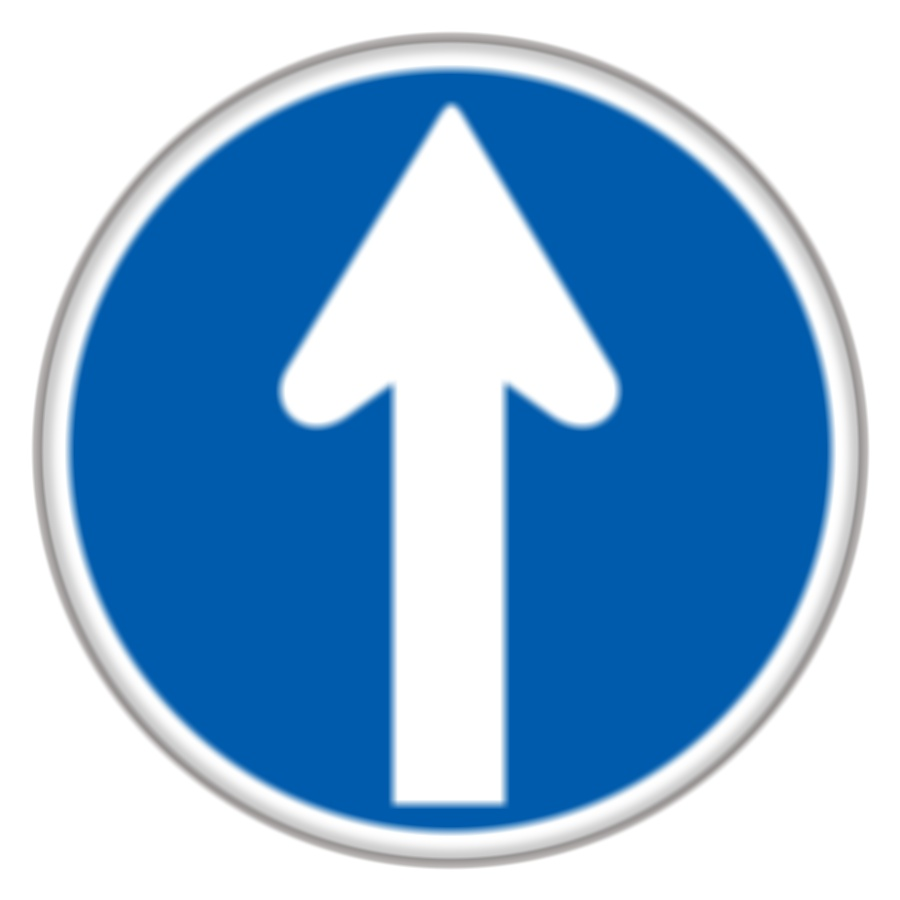Direction_sign: (28, 8, 890, 867)
